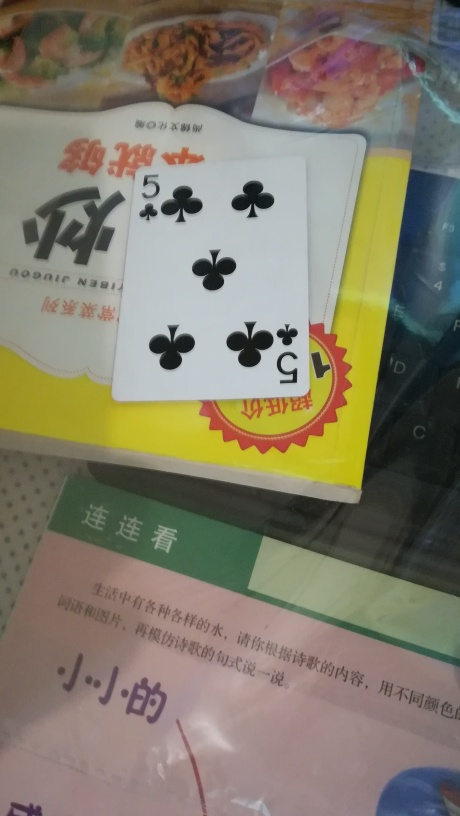mh 5: (111, 153, 313, 401)
